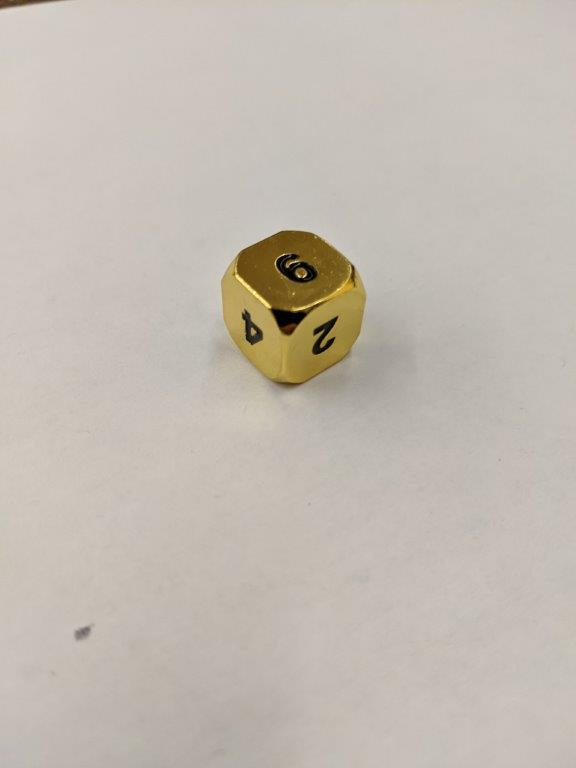d6-6: (220, 228, 365, 389)
